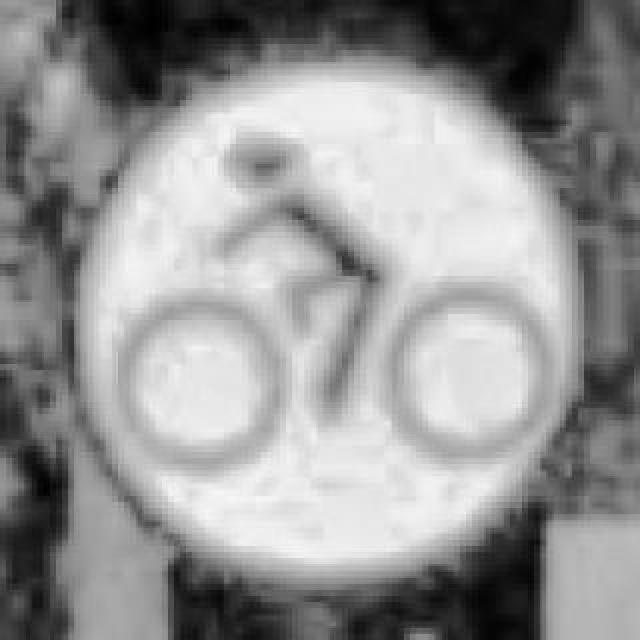bike lane: (62, 50, 598, 584)
